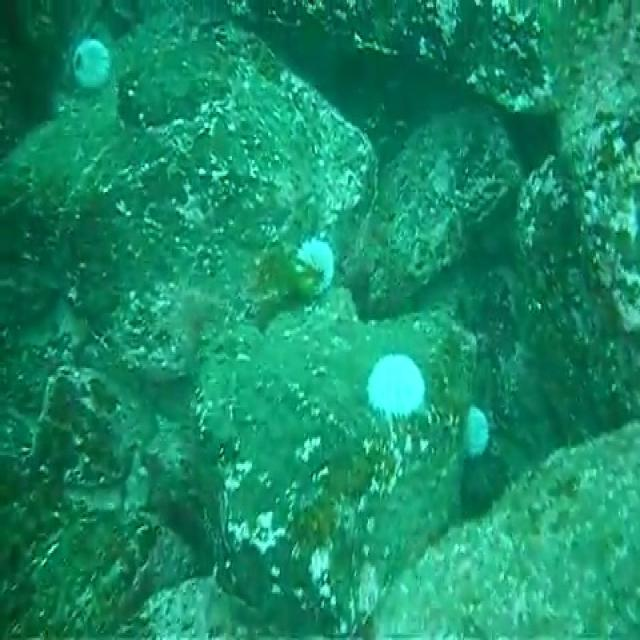Deniz Kestanesi: (365, 348, 430, 424), (290, 226, 339, 296), (67, 34, 118, 99), (459, 403, 492, 459)
